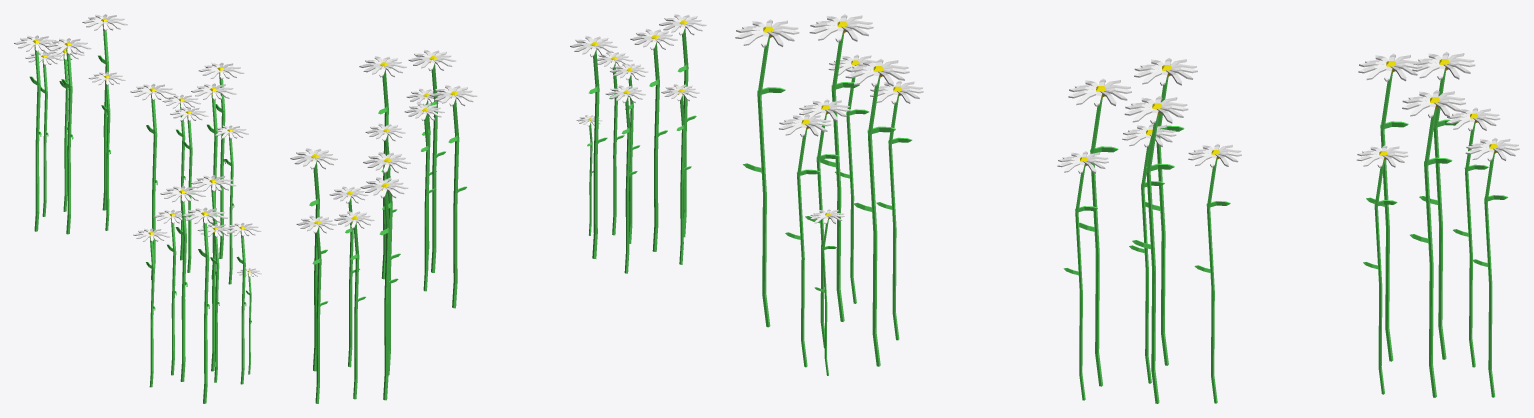
Rendered from margaritas_felices.fbx.
The picture shows the model from 3 angles, left to right: view 1: azimuth 30°, elevation 25°; view 2: azimuth 150°, elevation 25°; view 3: azimuth 270°, elevation 25°; orthographic projection. The views are drawn at different scales.
Visible parts, largest first — view 1: Cylinder, Cylinder.020, Cylinder.016, Cylinder.004, Cylinder.014, Cylinder.009, Cylinder.017, Cylinder.003, Cylinder.010, Cylinder.019, Cylinder.008, Cylinder.006 (+8 smaller); view 2: Cylinder.003, Cylinder.014, Cylinder.020, Cylinder, Cylinder.008, Cylinder.004, Cylinder.017, Cylinder.016, Cylinder.013, Cylinder.007, Cylinder.019, Cylinder.021 (+8 smaller); view 3: Cylinder.004, Cylinder.017, Cylinder.003, Cylinder.009, Cylinder.008, Cylinder.016, Cylinder, Cylinder.020, Cylinder.014, Cylinder.021, Cylinder.015, Cylinder.019 (+8 smaller).
Part boxes in pixels (<box>): Cylinder: <box>160,185,205,381</box>; Cylinder.020: <box>14,35,56,231</box>; Cylinder.016: <box>46,38,91,234</box>; Cylinder.004: <box>182,207,227,403</box>; Cylinder.014: <box>130,83,175,279</box>; Cylinder.009: <box>198,62,244,258</box>; Cylinder.017: <box>82,14,127,210</box>; Cylinder.003: <box>190,175,236,371</box>; Cylinder.010: <box>224,223,261,384</box>; Cylinder.019: <box>25,51,63,216</box>; Cylinder.008: <box>191,83,236,279</box>; Cylinder.006: <box>133,228,169,387</box>; Cylinder.003: <box>570,36,617,258</box>; Cylinder.014: <box>429,85,477,308</box>; Cylinder.020: <box>360,177,408,400</box>; Cylinder: <box>630,28,677,251</box>; Cylinder.008: <box>408,49,456,272</box>; Cylinder.004: <box>659,14,706,237</box>; Cylinder.017: <box>290,148,337,371</box>; Cylinder.016: <box>363,152,410,374</box>; Cylinder.013: <box>404,103,444,291</box>; Cylinder.007: <box>605,85,645,273</box>; Cylinder.019: <box>334,211,374,399</box>; Cylinder.021: <box>296,215,336,403</box>; Cylinder.004: <box>735,19,799,327</box>; Cylinder.017: <box>1402,90,1465,397</box>; Cylinder.003: <box>845,59,909,366</box>; Cylinder.009: <box>1124,96,1188,403</box>; Cylinder.008: <box>1068,78,1131,386</box>; Cylinder.016: <box>1358,53,1422,361</box>; Cylinder: <box>809,14,873,321</box>; Cylinder.020: <box>1411,51,1475,359</box>; Cylinder.014: <box>1134,58,1197,365</box>; Cylinder.021: <box>1465,137,1519,397</box>; Cylinder.015: <box>1188,144,1241,403</box>; Cylinder.019: <box>1446,107,1500,367</box>.
Size of the model in its own units: 146 by 150 by 318.
